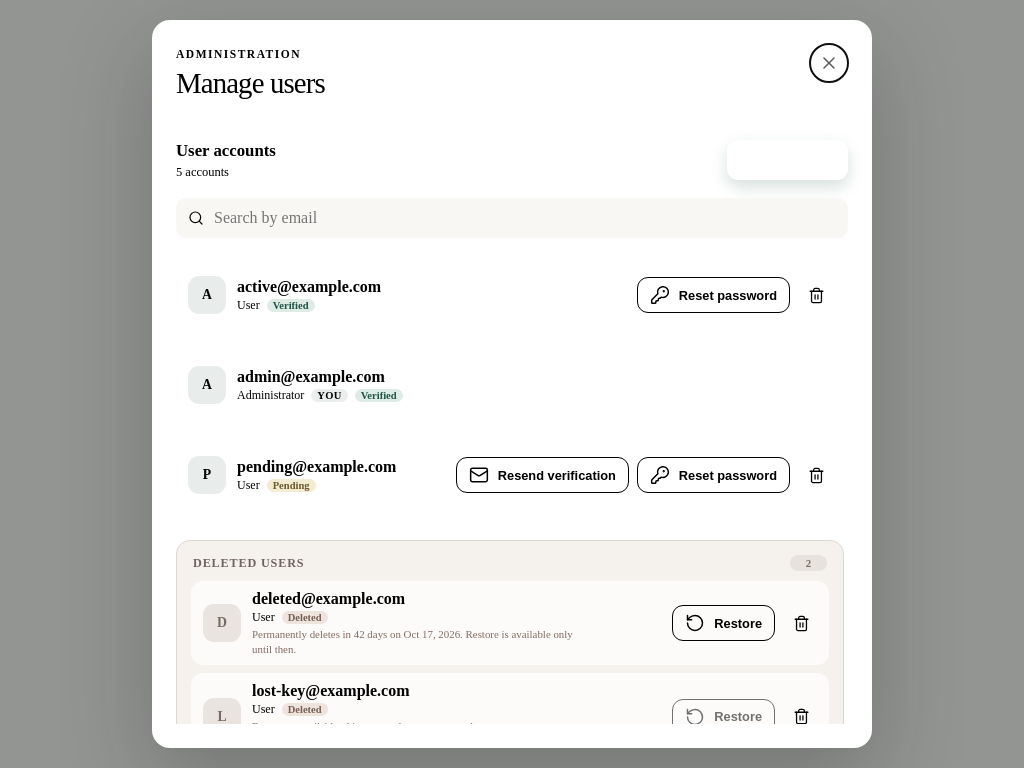
Test case: UserManagementDialog deleted users › shows verification status and resends for pending users
Expected: the text "pending@example.com" is shown, [237,458,396,476]
Expected: the text "Pending" is shown, [267,478,316,492]
Step 1. Click the button "Resend verification" → (542, 475), box [456,457,629,493]
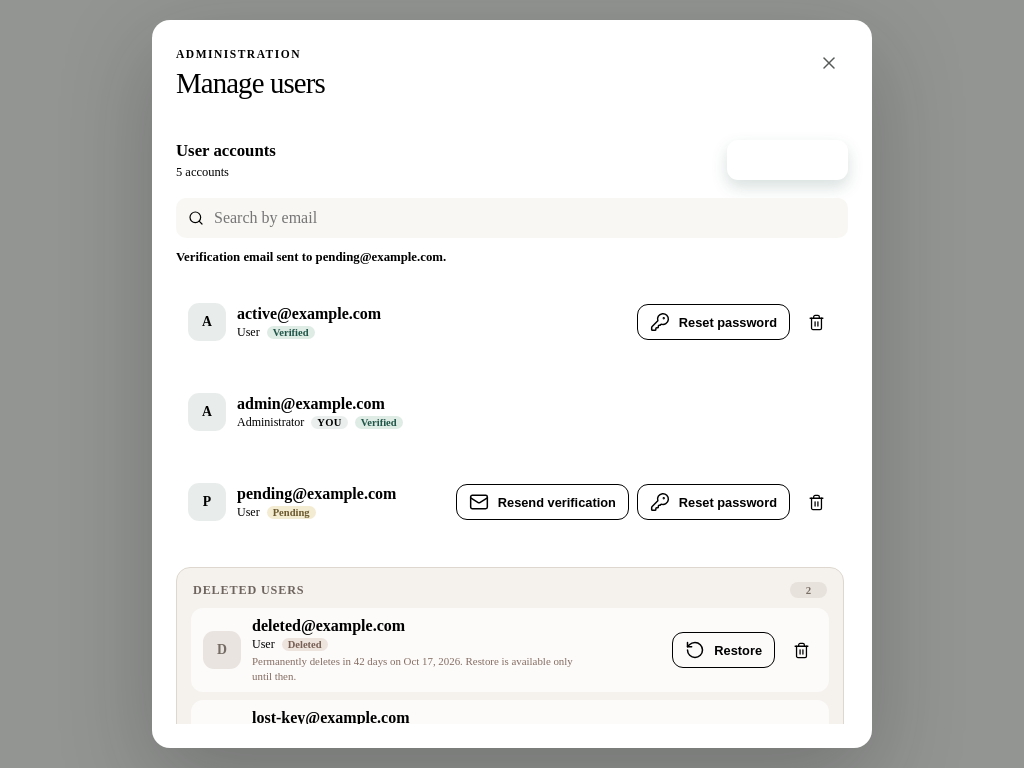
Now the text "Verification email sent to pending@example.com." is shown, box [176,250,446,264]
